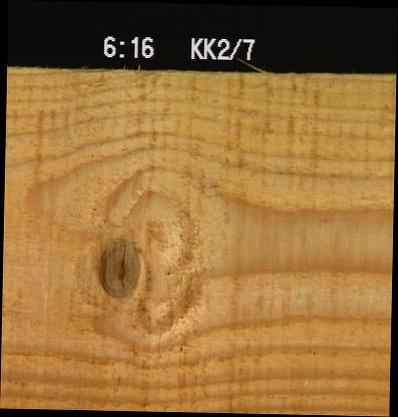sound_knot: (94, 235, 141, 300)
